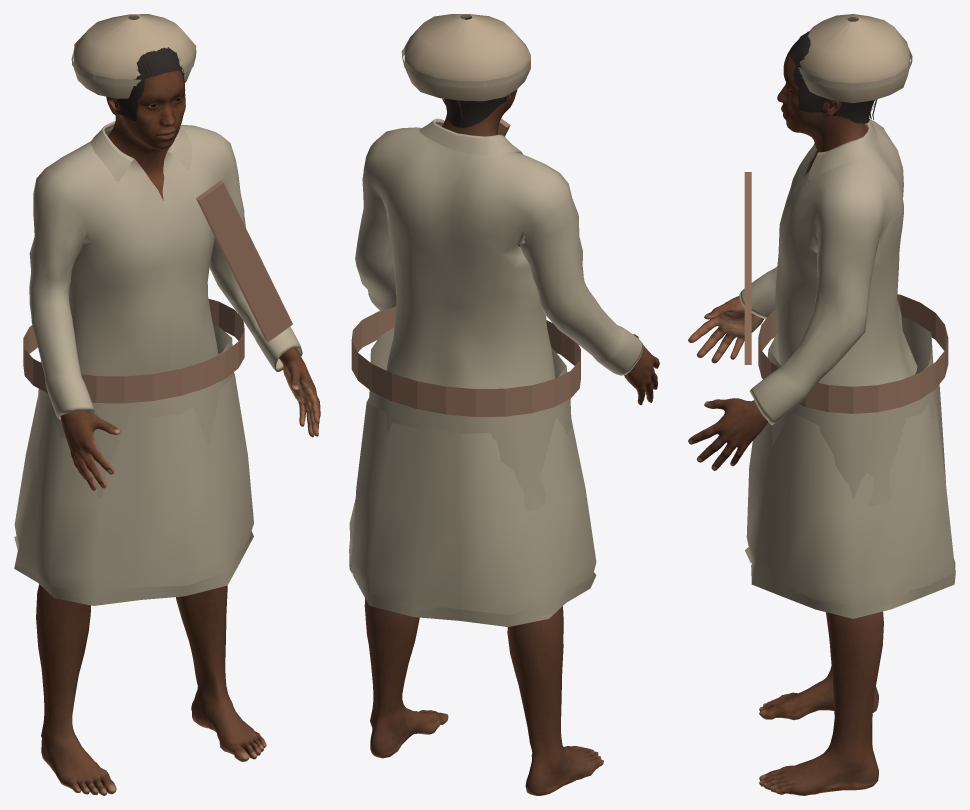
The model's file is daroga.glb.
The picture shows the model from 3 angles, left to right: view 1: azimuth 30°, elevation 25°; view 2: azimuth 150°, elevation 25°; view 3: azimuth 270°, elevation 25°; orthographic projection. The views are drawn at different scales.
Parts seen in each view (by area): view 1: Fitted cotton upper base_full_body_static, Knee length wrapped dhoti_full_body_static, village_farmer_MakeHuman_body_full_body_static, Soft cotton head wrap_full_body_static, Daroga waist sash, Daroga shoulder cloth, Kurta loose lower panel_full_body_static, Dhoti woven border_full_body_static, Farmer_hair_full_body_static, Head wrap fold_full_body_static; view 2: Fitted cotton upper base_full_body_static, Knee length wrapped dhoti_full_body_static, village_farmer_MakeHuman_body_full_body_static, Daroga waist sash, Soft cotton head wrap_full_body_static, Kurta loose lower panel_full_body_static, Dhoti woven border_full_body_static, Farmer_hair_full_body_static, Head wrap fold_full_body_static; view 3: Fitted cotton upper base_full_body_static, Knee length wrapped dhoti_full_body_static, village_farmer_MakeHuman_body_full_body_static, Kurta loose lower panel_full_body_static, Soft cotton head wrap_full_body_static, Daroga waist sash, Dhoti woven border_full_body_static, Farmer_hair_full_body_static, Daroga shoulder cloth, Head wrap fold_full_body_static.
Boxes of the visible parts, left/top/right/bottom form: Fitted cotton upper base_full_body_static: left=29, top=121, right=302, bottom=421; Knee length wrapped dhoti_full_body_static: left=14, top=373, right=253, bottom=599; village_farmer_MakeHuman_body_full_body_static: left=36, top=70, right=320, bottom=795; Soft cotton head wrap_full_body_static: left=73, top=14, right=196, bottom=98; Daroga waist sash: left=23, top=299, right=244, bottom=403; Daroga shoulder cloth: left=196, top=180, right=292, bottom=341; Kurta loose lower panel_full_body_static: left=31, top=324, right=233, bottom=498; Dhoti woven border_full_body_static: left=14, top=531, right=253, bottom=605; Farmer_hair_full_body_static: left=114, top=47, right=185, bottom=120; Head wrap fold_full_body_static: left=71, top=49, right=196, bottom=85; Fitted cotton upper base_full_body_static: left=355, top=118, right=643, bottom=388; Knee length wrapped dhoti_full_body_static: left=349, top=397, right=596, bottom=619; village_farmer_MakeHuman_body_full_body_static: left=364, top=89, right=659, bottom=795; Daroga waist sash: left=351, top=306, right=580, bottom=416; Soft cotton head wrap_full_body_static: left=404, top=14, right=530, bottom=101; Kurta loose lower panel_full_body_static: left=369, top=327, right=571, bottom=511; Dhoti woven border_full_body_static: left=349, top=541, right=596, bottom=626; Farmer_hair_full_body_static: left=442, top=16, right=514, bottom=127; Head wrap fold_full_body_static: left=401, top=47, right=530, bottom=87; Fitted cotton upper base_full_body_static: left=739, top=119, right=917, bottom=425; Knee length wrapped dhoti_full_body_static: left=746, top=354, right=953, bottom=609; village_farmer_MakeHuman_body_full_body_static: left=688, top=49, right=883, bottom=795; Kurta loose lower panel_full_body_static: left=767, top=317, right=934, bottom=506; Soft cotton head wrap_full_body_static: left=799, top=14, right=909, bottom=103; Daroga waist sash: left=758, top=294, right=948, bottom=413; Dhoti woven border_full_body_static: left=745, top=547, right=955, bottom=618; Farmer_hair_full_body_static: left=790, top=31, right=877, bottom=123; Daroga shoulder cloth: left=744, top=172, right=751, bottom=364; Head wrap fold_full_body_static: left=798, top=47, right=912, bottom=89.
Bounding box in the file's own units: 0.5892 × 1.67 × 0.5552.
8 materials, 2 textured.
